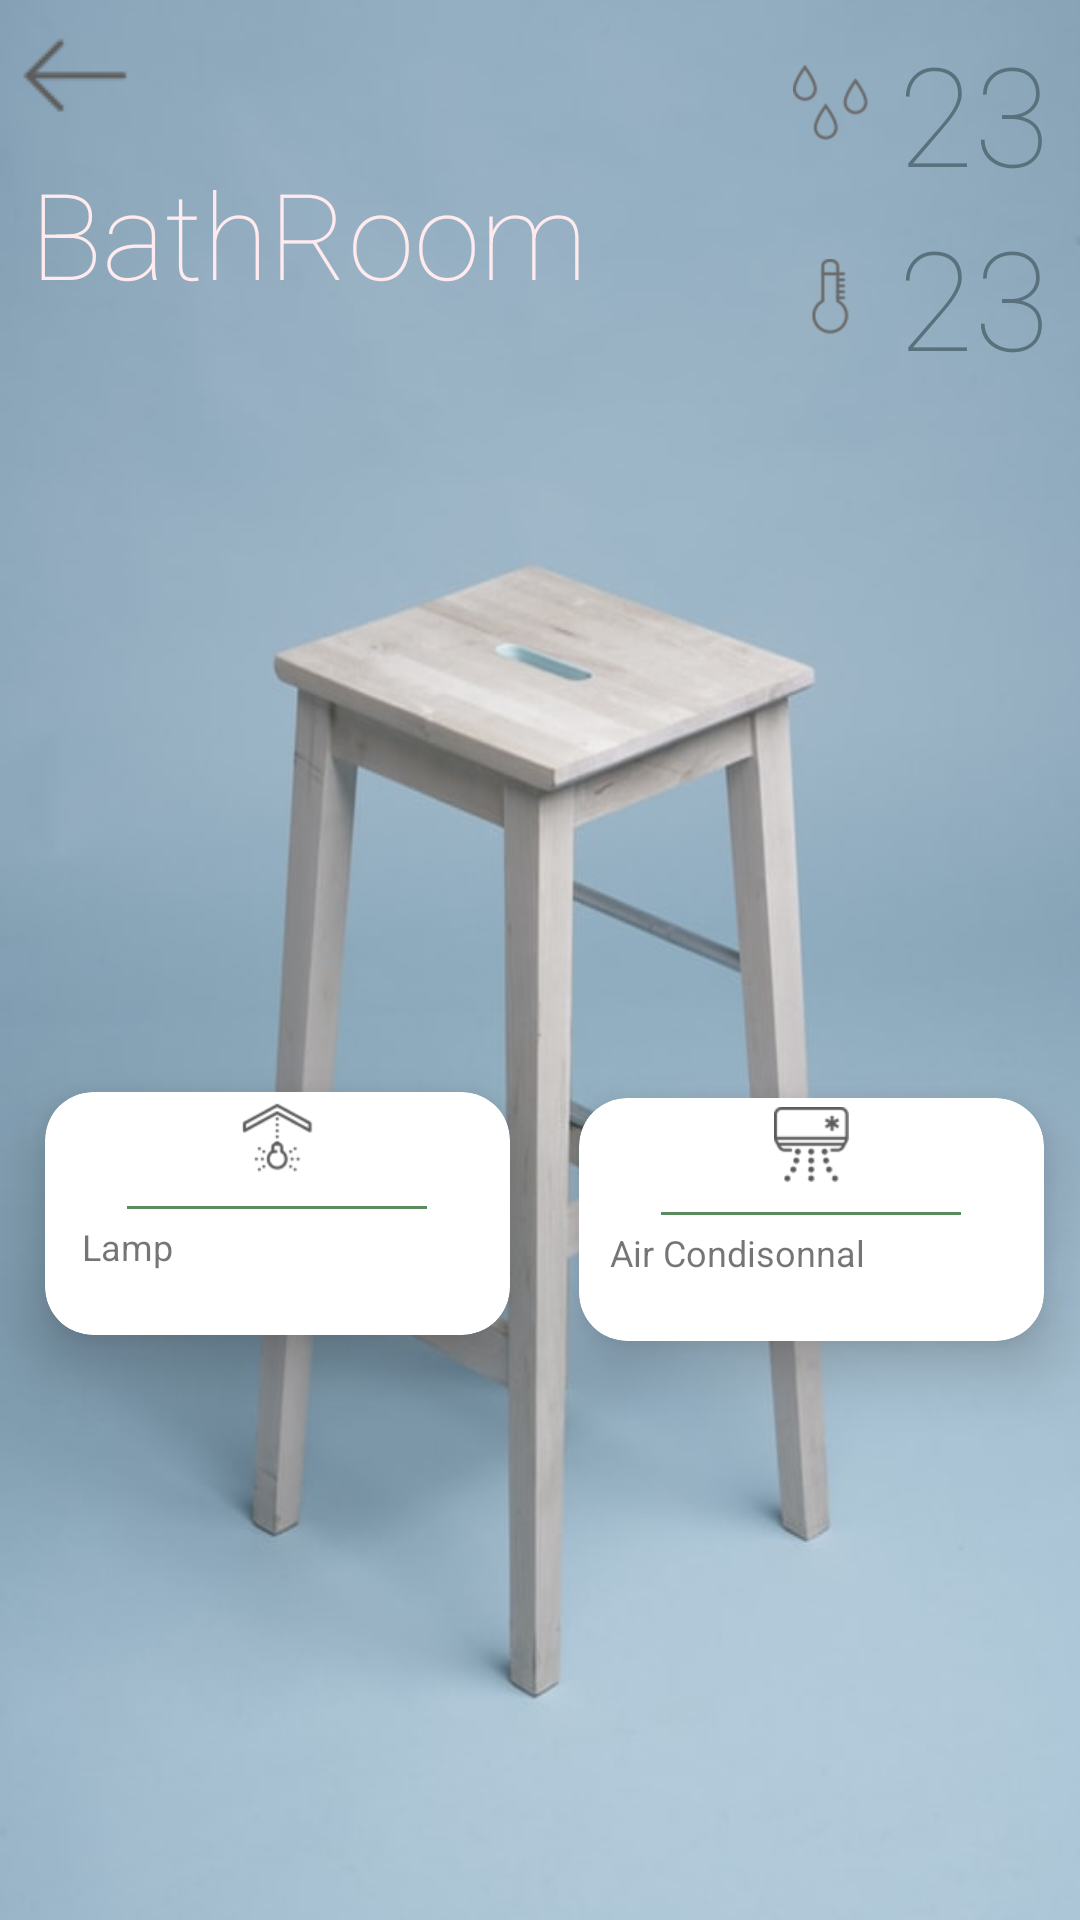

Named icons in this screenshot (1080w x 1920h) and their bounding boxes, (x1,y1,x2,y2):
airconditional: (774,1107,849,1182)
lemp: (242,1104,312,1172)
wet: (793,65,868,140)
